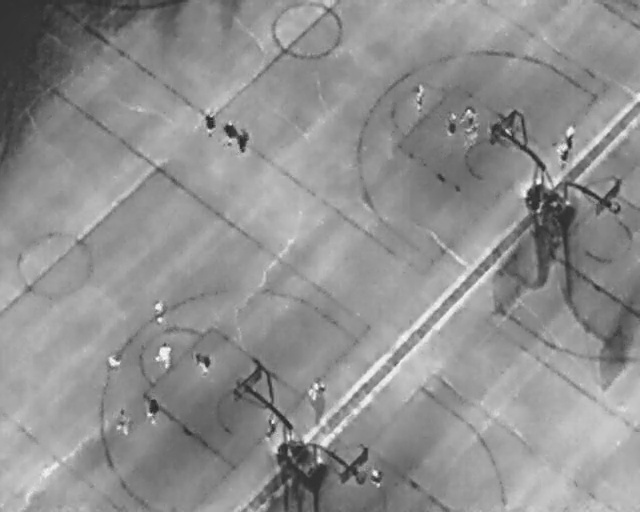Person: (155, 342, 172, 370), (191, 352, 211, 375), (145, 395, 158, 426), (223, 119, 237, 145), (311, 378, 325, 403), (205, 108, 216, 138), (414, 82, 423, 113), (557, 143, 568, 167), (118, 408, 128, 434), (371, 468, 383, 489), (155, 300, 164, 327), (105, 354, 121, 369), (446, 111, 456, 135), (239, 127, 248, 153), (266, 417, 276, 437), (567, 125, 575, 146)
